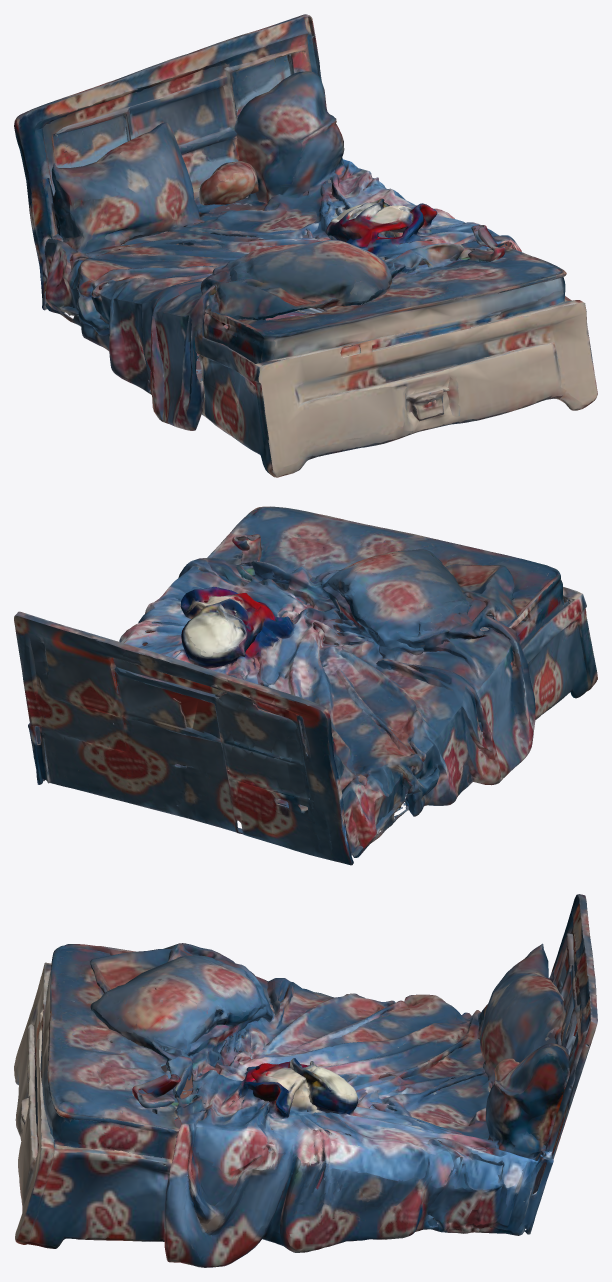
Rendered from bed-lux3d.glb.
The picture shows the model from 3 angles, top to bottom: view 1: azimuth 30°, elevation 25°; view 2: azimuth 150°, elevation 25°; view 3: azimuth 270°, elevation 25°; orthographic projection. The views are drawn at different scales.
Parts seen in each view (by area): view 1: geometry_0; view 2: geometry_0; view 3: geometry_0.
Boxes of the visible parts, box(x1,y1,x2,y2) form: geometry_0: box(14, 14, 597, 477); geometry_0: box(14, 506, 597, 865); geometry_0: box(14, 894, 597, 1267).
Size of the model in its own units: 1.78 by 1.01 by 2.32.
1 material, 1 textured.
